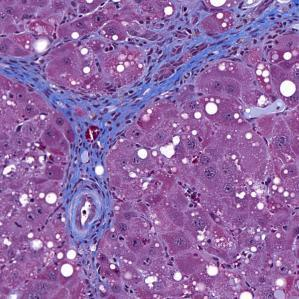fibrosis: (16, 58, 128, 160), (146, 11, 259, 82), (63, 165, 119, 270)
